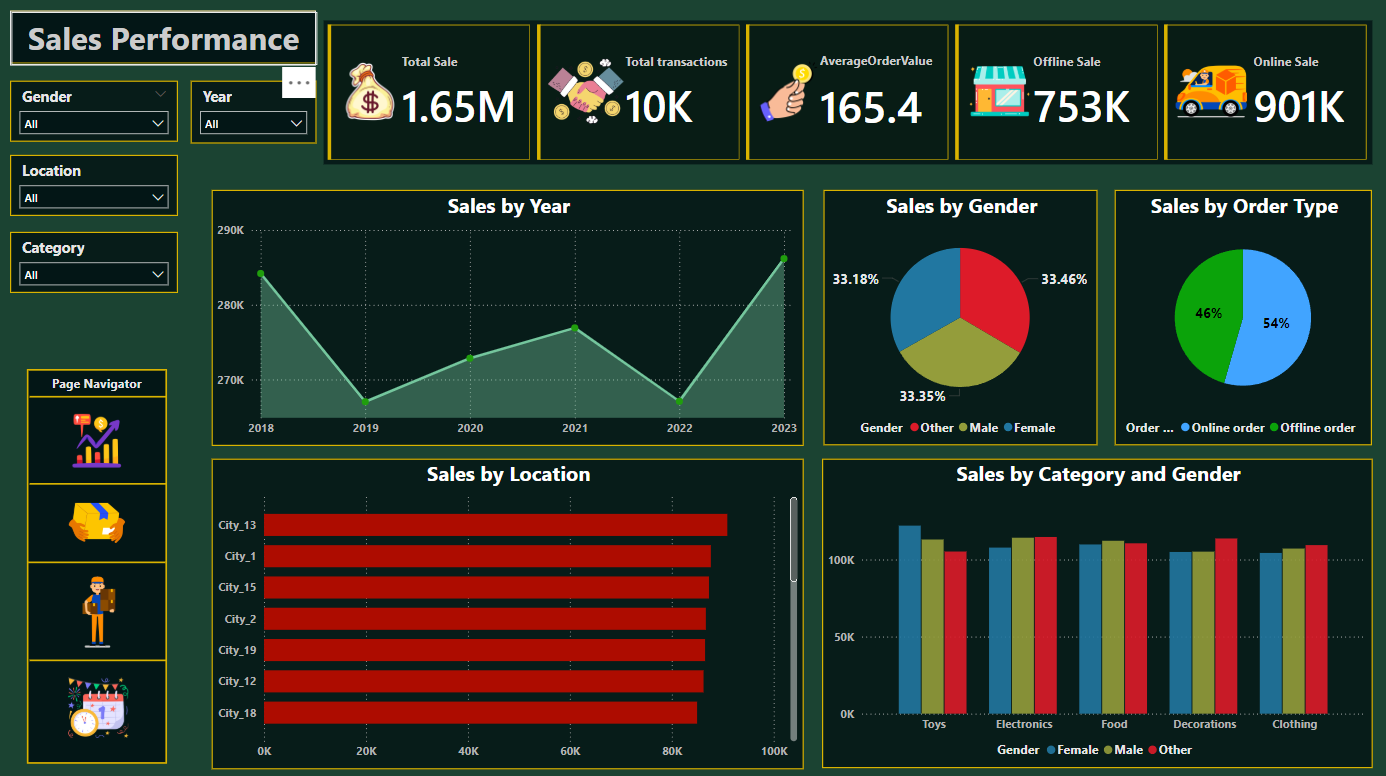

This screenshot's page, from the dashboard's own definition file:
{"tool":"powerbi","page":{"name":"Sales Performance ","canvas":[1664,936],"ordinal":0},"visuals":[{"type":"shape","box":[16.1,15.2,364.4,62.8],"z":0,"group":"g1"},{"type":"areaChart","title":"Sales by Year","fields":{"Category":["Christmas sales data.Date.Variation.Date Hierarchy.Year"],"Y":["Sum(Christmas sales data.TotalPrice)"]},"box":[256.7,228.3,705,305],"z":0},{"type":"clusteredBarChart","title":"Sales by Location","fields":{"Category":["Christmas sales data.Location"],"Y":["Sum(Christmas sales data.TotalPrice)"]},"box":[256.7,548,704.7,370],"z":1000},{"type":"pieChart","title":"Sales by Order Type","fields":{"Y":["Sum(Christmas sales data.TotalPrice)"],"Category":["Christmas sales data.Online vs Offline"]},"box":[1332.2,228.9,306.7,304.4],"z":2000},{"type":"pieChart","title":"Sales by Gender","fields":{"Category":["Christmas sales data.Gender"],"Y":["Sum(Christmas sales data.TotalPrice)"]},"box":[984.4,228.9,326.7,304.4],"z":3000},{"type":"textbox","box":[18.2,17.1,362.3,63.1],"z":4000,"group":"g1"},{"type":"slicer","fields":{"Values":["Christmas sales data.Gender"]},"box":[16.7,98.3,200,73],"z":4000},{"type":"slicer","fields":{"Values":["Christmas sales data.Location"]},"box":[16.5,187.1,200,72.9],"z":5000},{"type":"slicer","fields":{"Values":["Christmas sales data.Category"]},"box":[16.5,278.2,200,72.9],"z":6000},{"type":"slicer","fields":{"Values":["Christmas sales data.Date.Variation.Date Hierarchy.Year"]},"box":[231.2,98.2,150,75.3],"z":7000},{"type":"cardVisual","fields":{"Data":["MeasuresTable.Total Sale","MeasuresTable.Total transactions","MeasuresTable.AverageOrderValue","MeasuresTable.Offline Sale","MeasuresTable.Online Sale"]},"box":[390,26.7,1248.3,171.7],"z":8000},{"type":"clusteredColumnChart","title":"Sales by Category and Gender","fields":{"Y":["Sum(Christmas sales data.TotalPrice)"],"Series":["Christmas sales data.Gender"],"Category":["Christmas sales data.Category"]},"box":[983.3,548.9,655.6,368.9],"z":9000},{"type":"group","id":"g1","title":"Group 3","box":[16.1,15.2,364.4,65],"z":11000},{"type":"shape","box":[36.7,442,167,470],"z":12000,"group":"g2"},{"type":"group","id":"g2","title":"Group 1","box":[36.7,442,167,470],"z":13000,"group":"g3"},{"type":"image","box":[73.2,582.2,94.1,86.4],"z":13000,"group":"g2"},{"type":"textbox","box":[38.7,443.3,163.3,31],"z":14000,"group":"g3"},{"type":"image","box":[77.3,486.2,86.1,81],"z":14000,"group":"g2"},{"type":"group","id":"g3","title":"Group 2","box":[36.7,442,167,470],"z":14001},{"type":"image","box":[74.7,801.8,94.1,86.1],"z":15000,"group":"g2"},{"type":"image","box":[74.7,683.8,94.7,94.7],"z":16000,"group":"g2"},{"type":"shape","box":[39.6,468.1,163.2,12.7],"z":17000,"group":"g2"},{"type":"shape","box":[39.6,572.1,162.9,13.4],"z":19000,"group":"g2"},{"type":"shape","box":[38.5,665.2,163.5,13.7],"z":20000,"group":"g2"},{"type":"shape","box":[39.6,782.4,163.5,13.7],"z":21000,"group":"g2"}]}

Visuals, with their boxes in screenshot pixels (x1, y1, x2, y2), scaled from the page's 1664x936 canvas onto the 1386x776 screenshot:
shape: bbox(13, 13, 317, 65)
"Sales by Year" areaChart: bbox(214, 189, 801, 442)
"Sales by Location" clusteredBarChart: bbox(214, 454, 801, 761)
"Sales by Order Type" pieChart: bbox(1110, 190, 1365, 442)
"Sales by Gender" pieChart: bbox(820, 190, 1092, 442)
textbox: bbox(15, 14, 317, 66)
slicer - Christmas sales data.Gender: bbox(14, 81, 180, 142)
slicer - Christmas sales data.Location: bbox(14, 155, 180, 216)
slicer - Christmas sales data.Category: bbox(14, 231, 180, 291)
slicer - Christmas sales data.Date.Variation.Date Hierarchy.Year: bbox(193, 81, 318, 144)
cardVisual - MeasuresTable.Total Sale x MeasuresTable.Total transactions: bbox(325, 22, 1365, 164)
"Sales by Category and Gender" clusteredColumnChart: bbox(819, 455, 1365, 761)
"Group 3" group: bbox(13, 13, 317, 66)
shape: bbox(31, 366, 170, 756)
"Group 1" group: bbox(31, 366, 170, 756)
image: bbox(61, 483, 139, 554)
textbox: bbox(32, 368, 168, 393)
image: bbox(64, 403, 136, 470)
"Group 2" group: bbox(31, 366, 170, 756)
image: bbox(62, 665, 141, 736)
image: bbox(62, 567, 141, 645)
shape: bbox(33, 388, 169, 399)
shape: bbox(33, 474, 169, 485)
shape: bbox(32, 551, 168, 563)
shape: bbox(33, 649, 169, 660)
